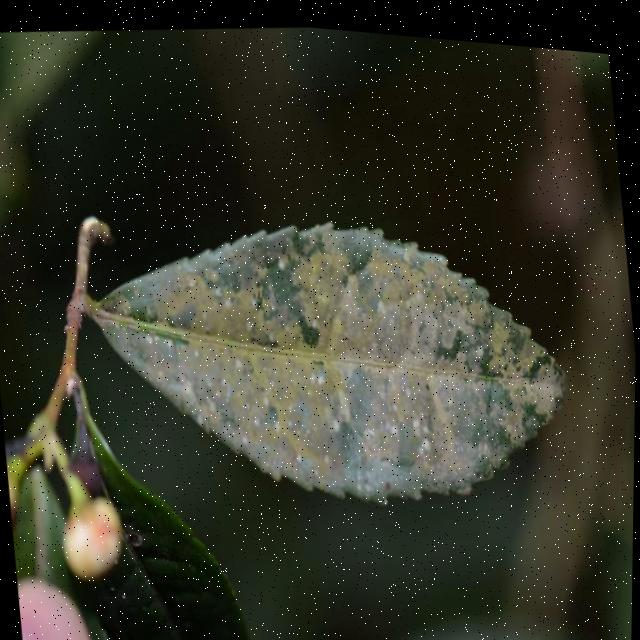Tea algae leaf spot: (118, 201, 552, 519)
